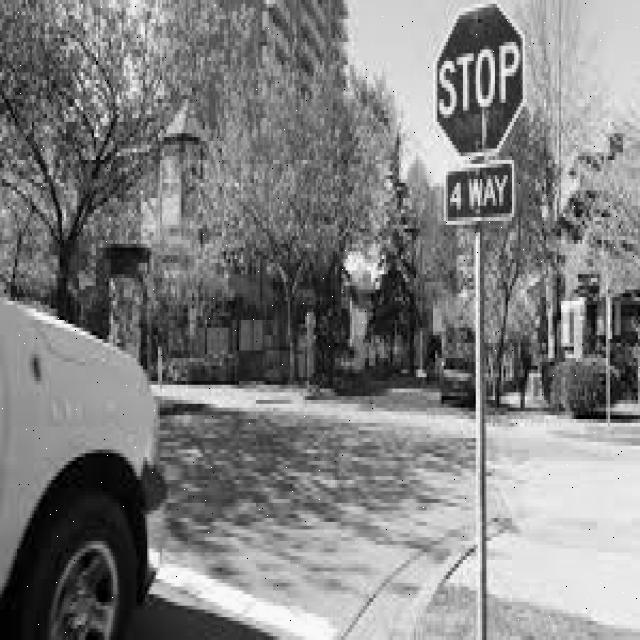stop sign: (437, 2, 526, 236)
